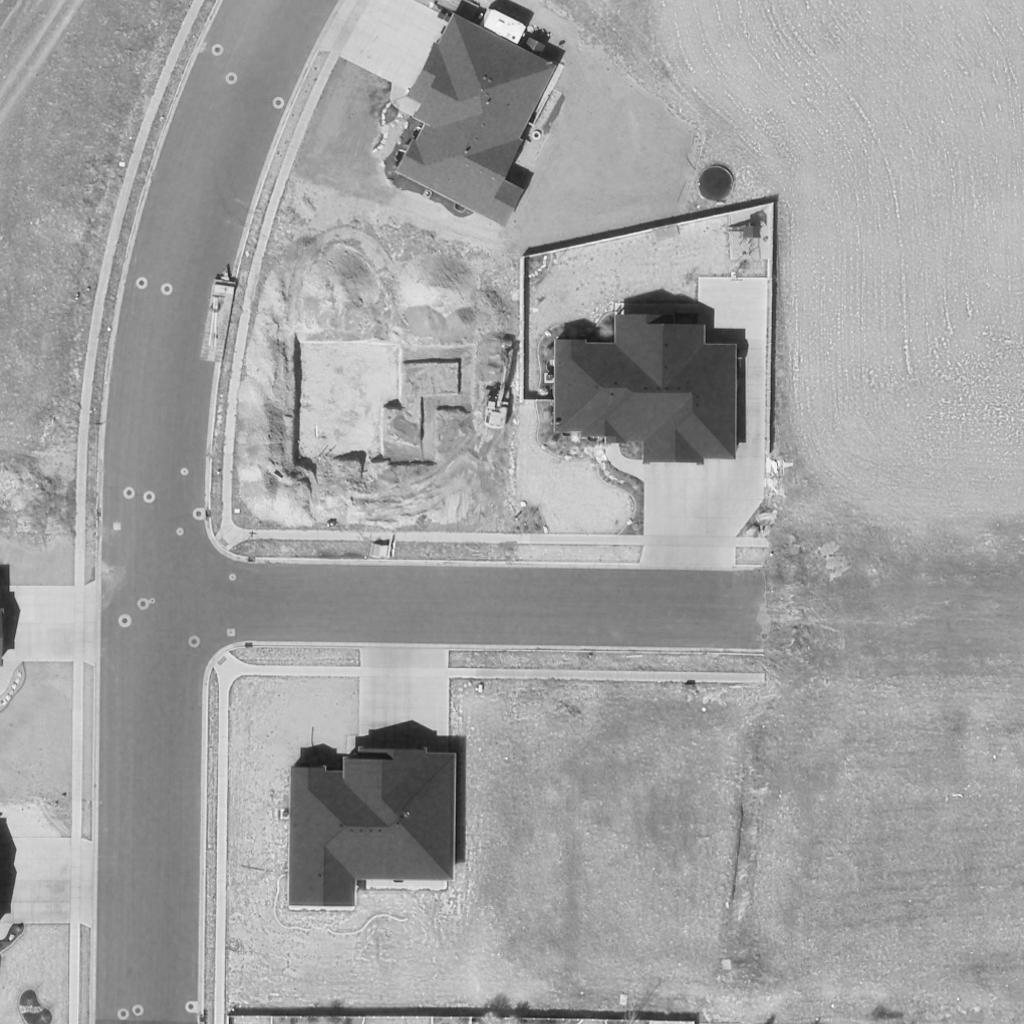vehicle: (482, 340, 526, 432)
